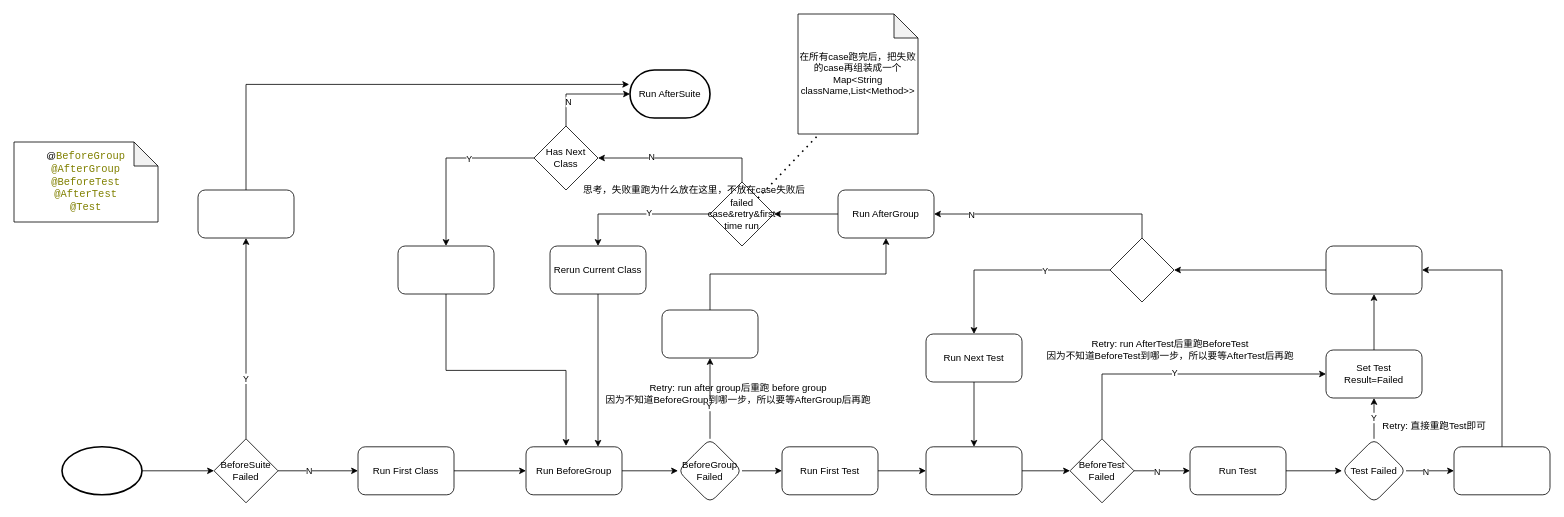
Some shapes in this 1564 by 517 pixel diagram are drawn without their labels. Here are the shapes that lost their labels. From the top down, the centre of each, then its label:
At (245,213): "Skip All Class, Set Result=skipped".
At (445,269): "Run Next Class".
At (1141,269): "Has Next Test&BeforeTes not failed".
At (1373,269): "Run AfterTest".
At (709,333): "Failed current case, Skip other case under class".
At (101,470): "Run BeforeSuite".
At (973,470): "Run BeforeTest".
At (1501,470): "Set Test Result=Pass".
